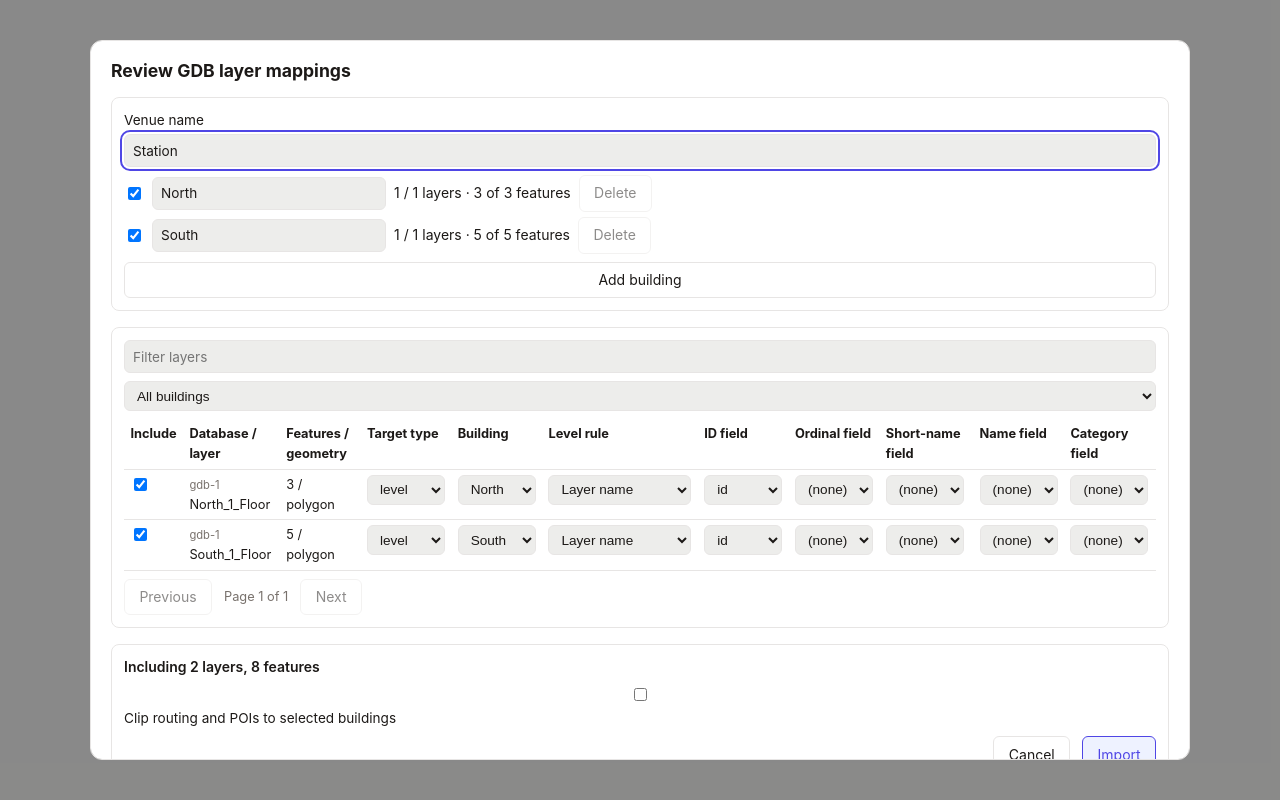
it: GdbImportDialog › filters the layer table to one building
The image size is (1280, 800).
Select "South" in the dropdown named "filter by building" at (640, 396), box [124,381,1156,411]
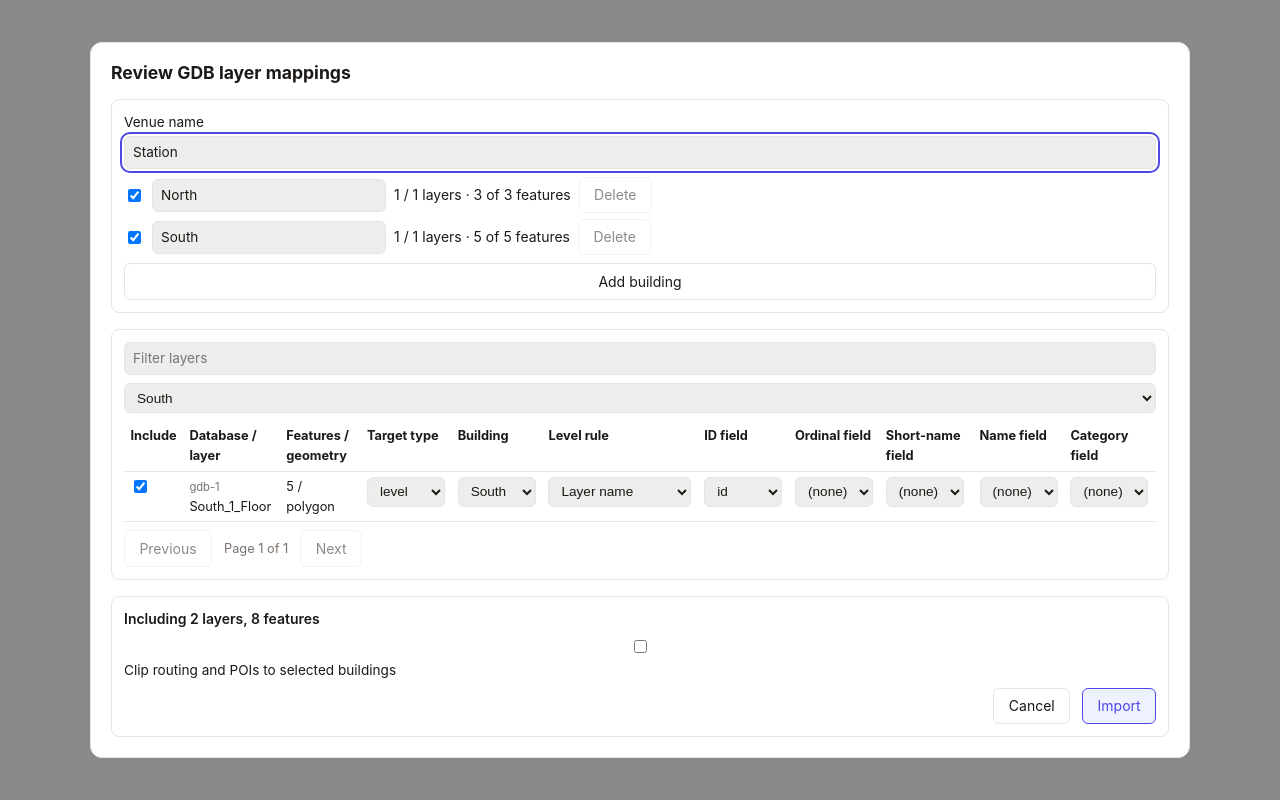
Expected: the text "South_1_Floor" is shown, [189,499,271,514]
Result: the text "North_1_Floor" is gone
